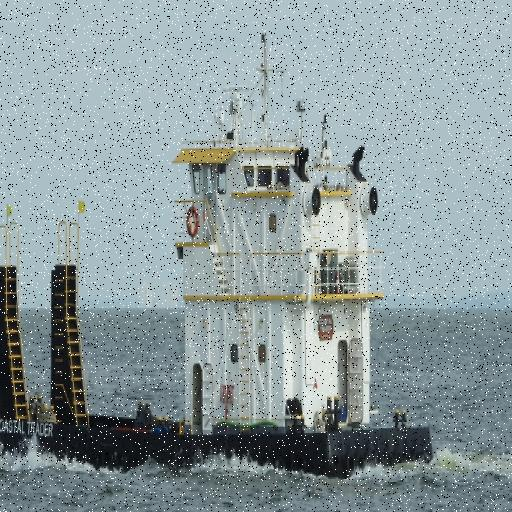tugboat: (1, 28, 438, 489)
